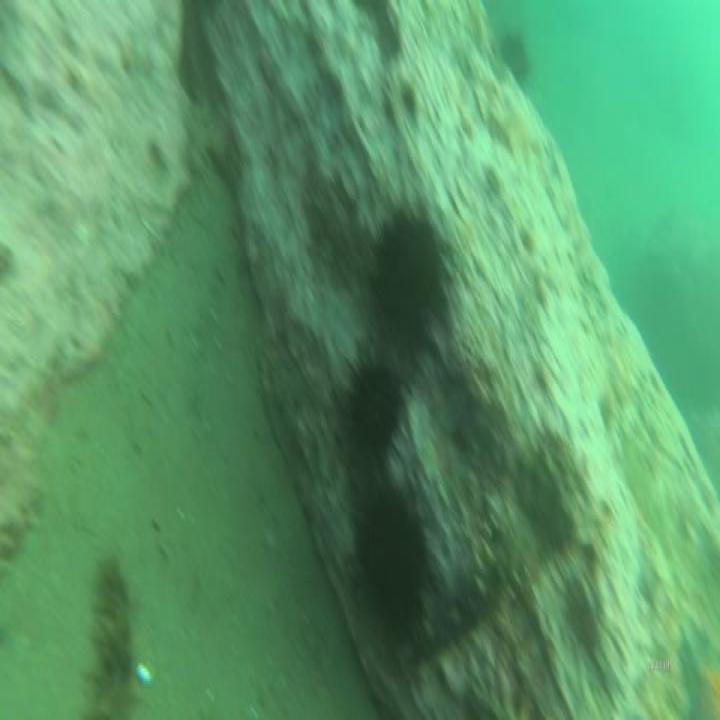echinus: (357, 192, 463, 372), (334, 474, 447, 642), (336, 336, 424, 476)
starfish: (670, 606, 720, 720)
